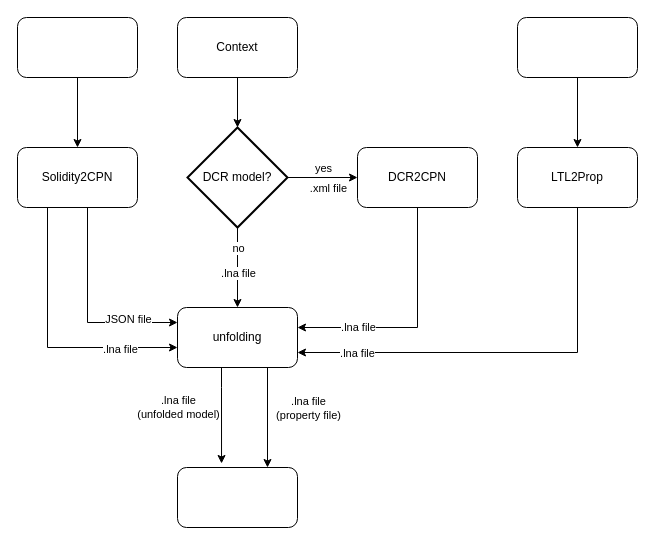
Some shapes in this 655 by 545 pixel diagram are drawn without their labels. Each missing label, with the centre of its shape:
"LTL Formula" goes at point (577, 47).
"model checking (Helena)" goes at point (237, 497).
"Smart Contract (Solidity code)" goes at point (77, 47).
